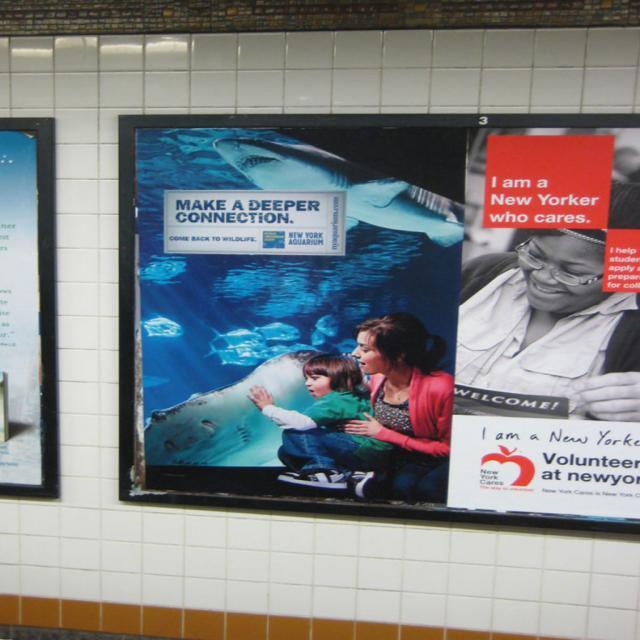Shark: (215, 138, 464, 246), (211, 322, 340, 368), (139, 314, 182, 342)
